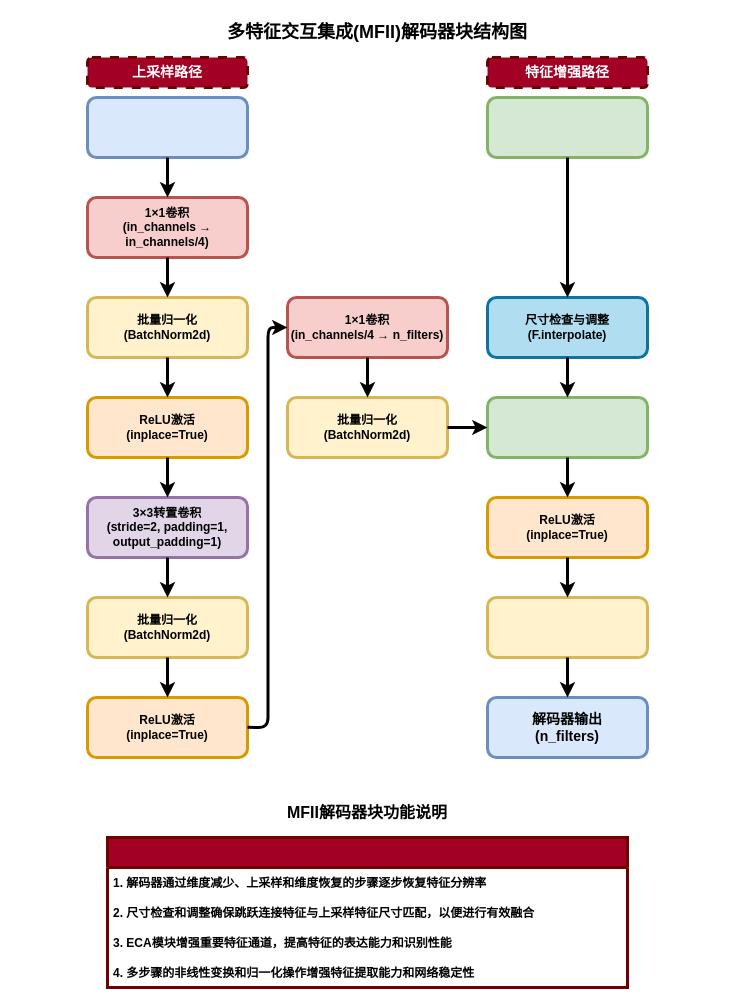
This 734x1006 diagram has some shape labels left out. The box of each missing label's shape, as (x1, y1, x2, y2) in pixels:
ECA模块 (高效通道注意力): (486, 596, 648, 658)
功能详情: (106, 836, 628, 988)
特征融合 (加法操作): (486, 396, 648, 458)
跳跃连接输入 skip (可选): (486, 96, 648, 158)
高级特征输入 x (in_channels): (86, 96, 248, 158)
